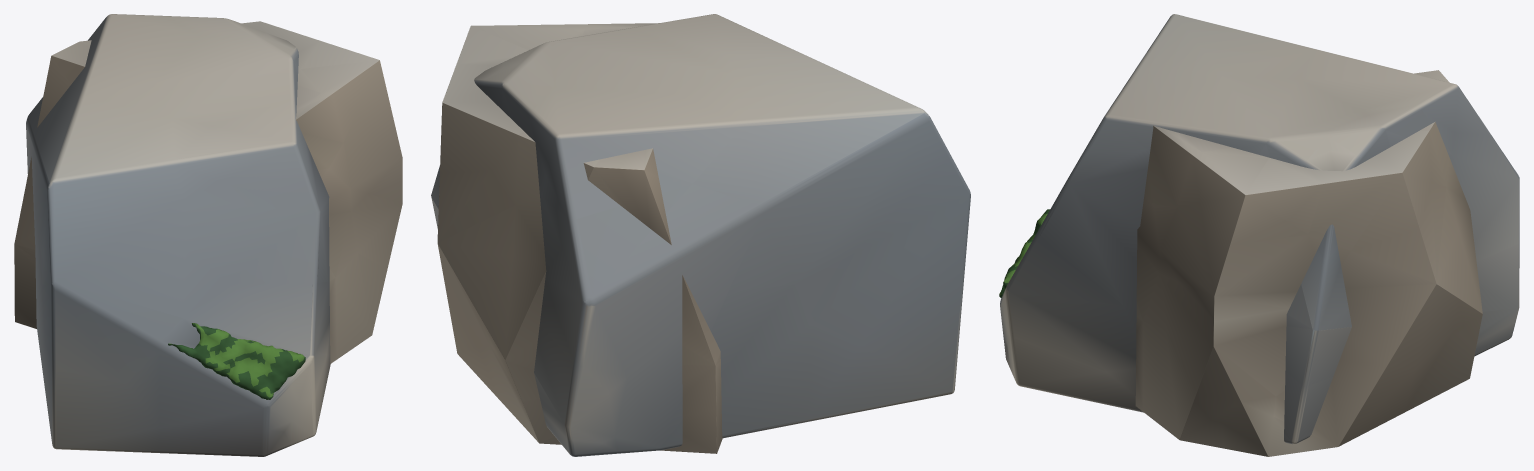
File: shore_rock_c.glb
3 renders of one model, left to right at view 1: azimuth 30°, elevation 25°; view 2: azimuth 150°, elevation 25°; view 3: azimuth 270°, elevation 25°, orthographic. The views are drawn at different scales.
Visible parts, largest first — view 1: shore_rock_c; view 2: shore_rock_c; view 3: shore_rock_c.
Part boxes in pixels (x1,y1,x2,y2): shore_rock_c: (14,14,402,456); shore_rock_c: (431,14,970,456); shore_rock_c: (999,14,1519,456).
Size of the model in its own units: 4.78 by 3.32 by 5.09.
